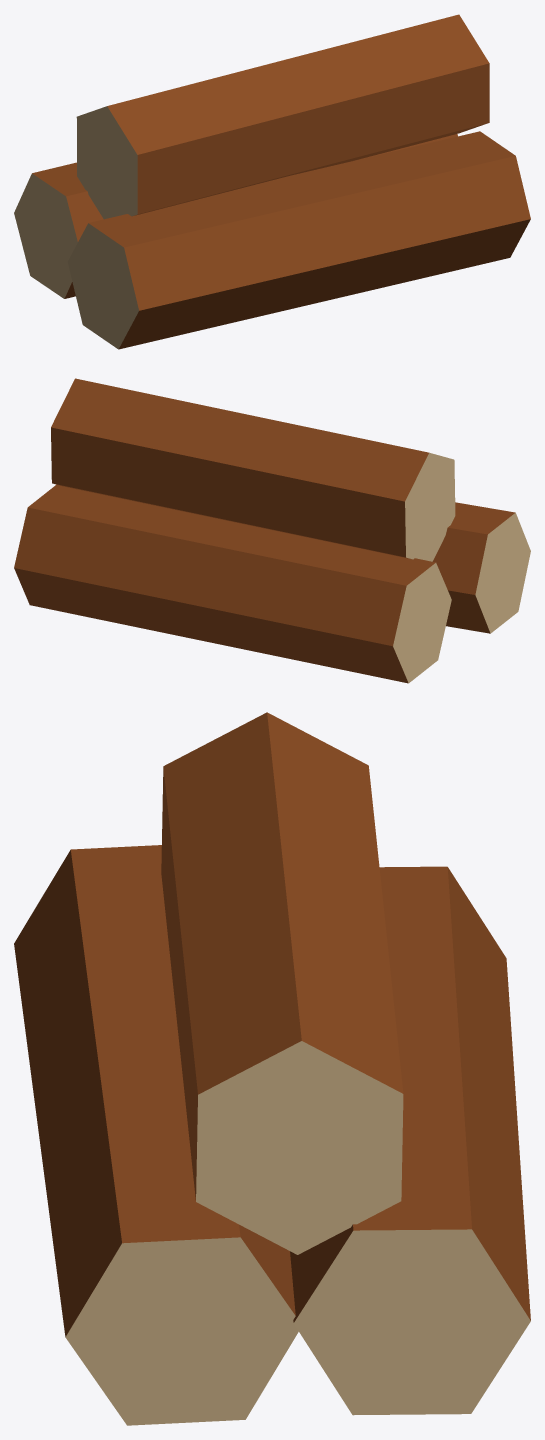
The model's file is tree_log_pile.fbx.
3 renders of one model, top to bottom at view 1: azimuth 30°, elevation 25°; view 2: azimuth 150°, elevation 25°; view 3: azimuth 270°, elevation 25°, orthographic. The views are drawn at different scales.
Parts seen in each view (by area): view 1: tree_log.001, tree_log.003, tree_log.002; view 2: tree_log.002, tree_log.003, tree_log.001; view 3: tree_log.003, tree_log.001, tree_log.002.
Boxes of the visible parts, x1=… form: tree_log.001: x1=67, y1=131, x2=530, y2=349; tree_log.003: x1=76, y1=14, x2=489, y2=219; tree_log.002: x1=14, y1=134, x2=457, y2=298; tree_log.002: x1=14, y1=484, x2=451, y2=683; tree_log.003: x1=51, y1=378, x2=455, y2=561; tree_log.001: x1=432, y1=502, x2=530, y2=633; tree_log.003: x1=161, y1=712, x2=403, y2=1254; tree_log.001: x1=14, y1=845, x2=298, y2=1425; tree_log.002: x1=290, y1=866, x2=530, y2=1415.
Bounding box in the file's own units: 110 × 54.32 × 65.54.
